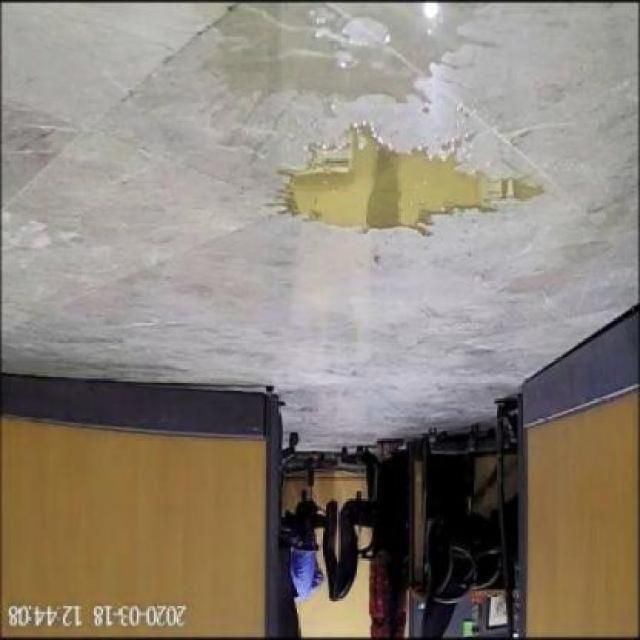spillage: (284, 125, 544, 237)
